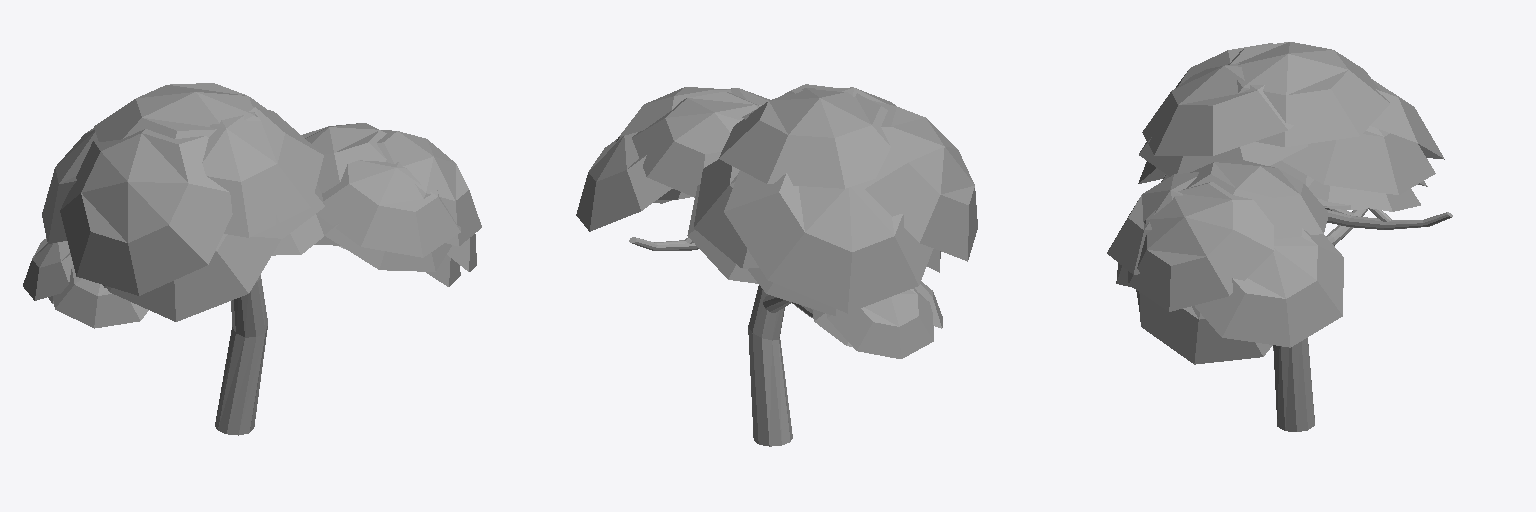
The model's file is Tree_9.obj.
The picture shows the model from 3 angles: view 1: azimuth 30°, elevation 25°; view 2: azimuth 150°, elevation 25°; view 3: azimuth 270°, elevation 25°; orthographic projection.
Parts seen in each view (by area): view 1: Tree_9; view 2: Tree_9; view 3: Tree_9.
Boxes of the visible parts, box(x1,y1,x2,y2) form: Tree_9: box(23, 83, 481, 435); Tree_9: box(576, 84, 977, 446); Tree_9: box(1107, 42, 1452, 431).
Bounding box in the file's own units: 6.36 × 5.49 × 4.94.